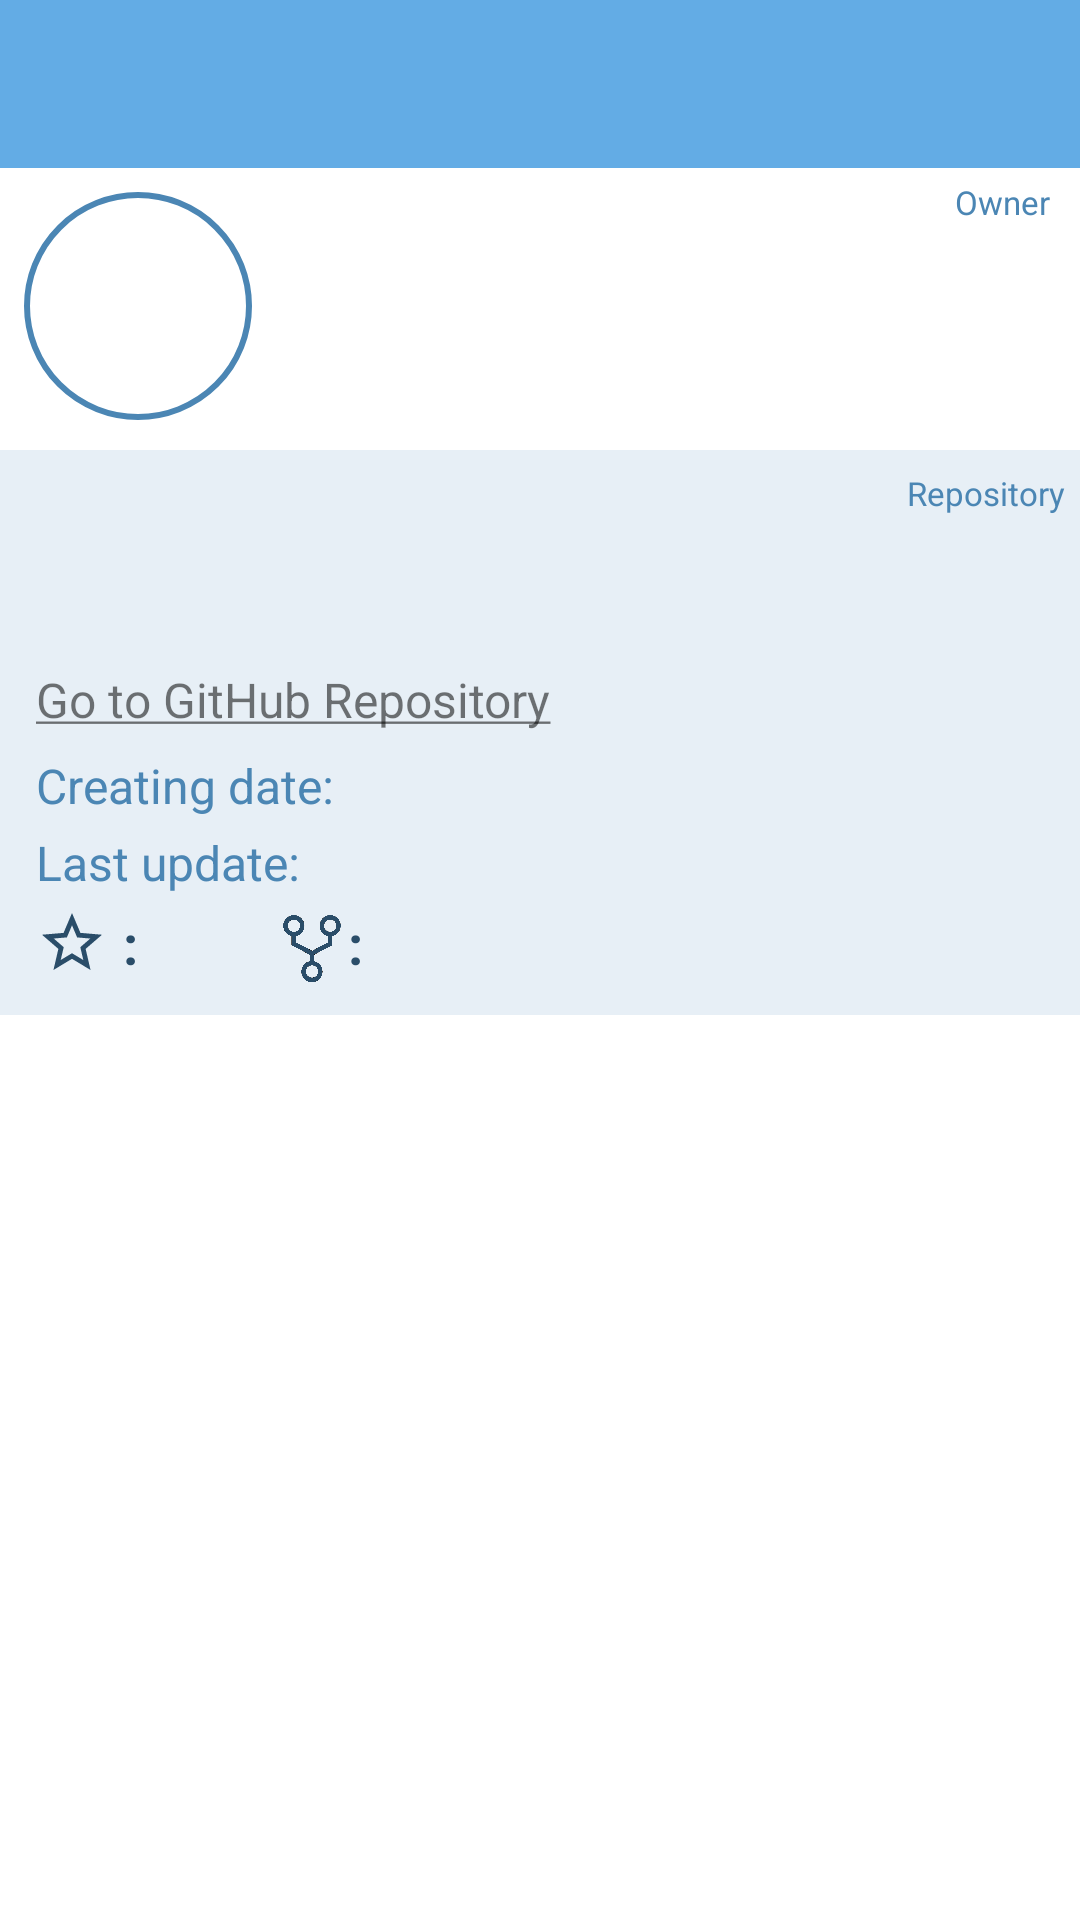

Named icons in this screenshot (1080 x 1920) and their bounding boxes, (x1, y1, x2, y2):
Fork: (283, 915, 341, 982)
Star: (42, 913, 102, 970)
